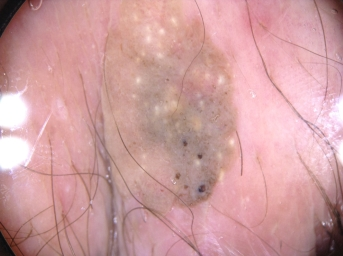seborrheic keratosis: (86, 12, 258, 212)
